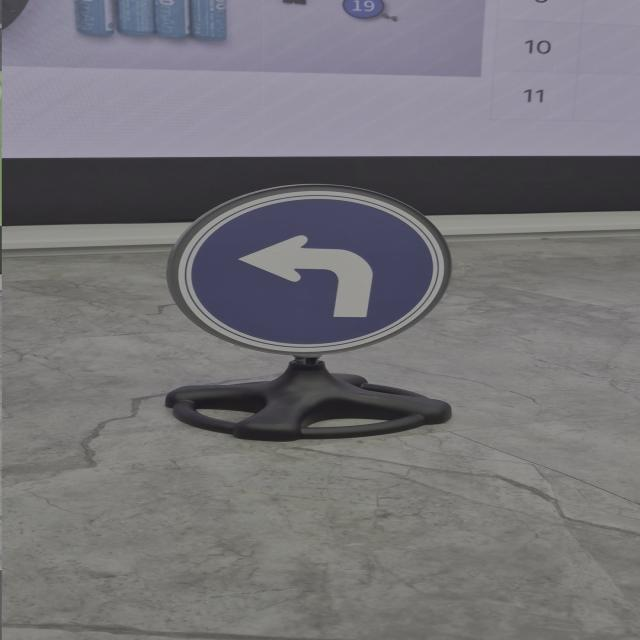left_direction: (148, 178, 473, 366)
